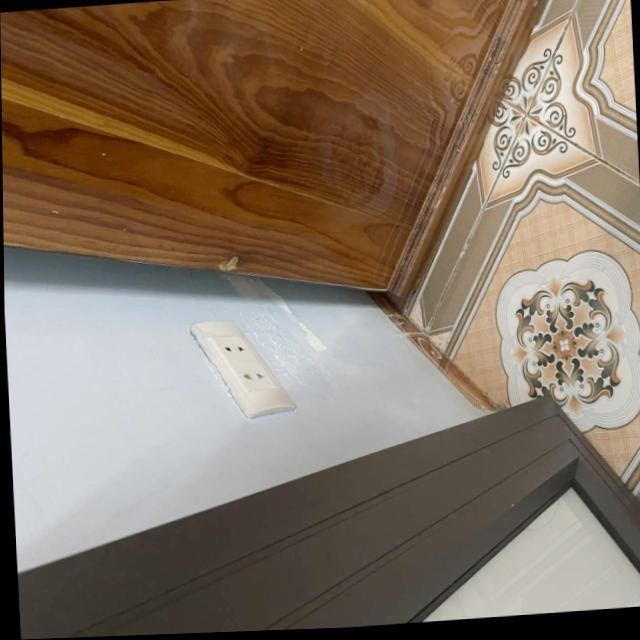outlet: (188, 314, 296, 423)
